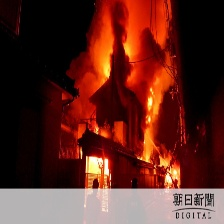fire: (86, 55, 182, 184)
smoke: (88, 3, 177, 50)
